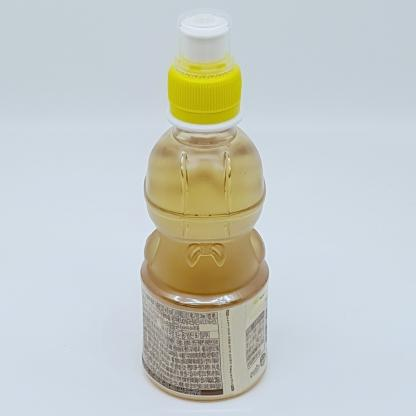--------220ML: (139, 7, 270, 404)
